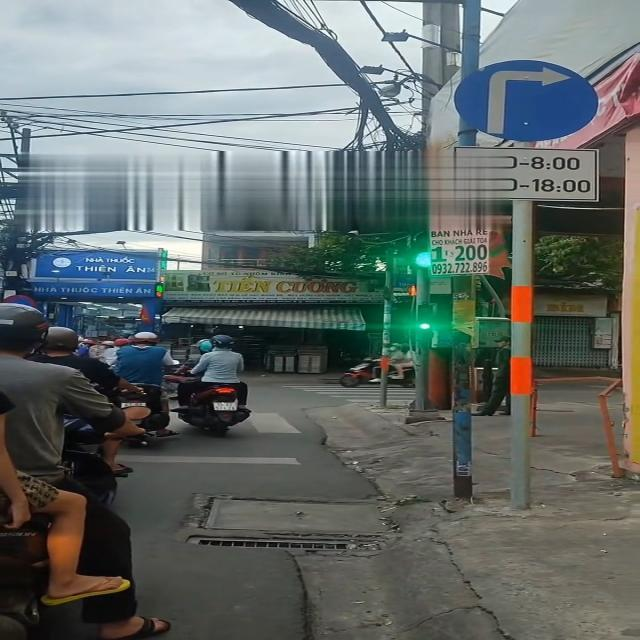301d-cac-xe-chi-duoc-re-phai-2: (453, 59, 602, 142)
